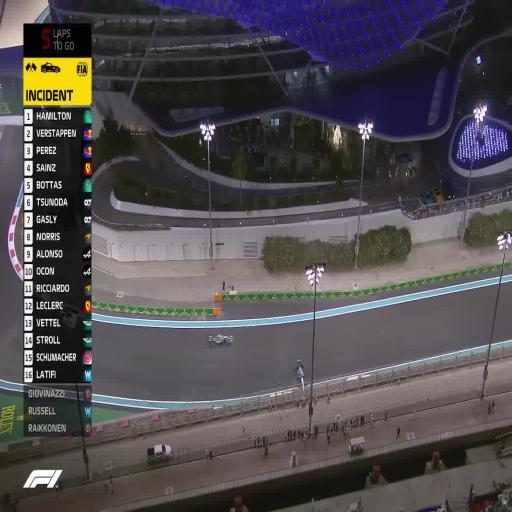f1_car: (205, 322, 236, 352), (289, 355, 309, 395)
